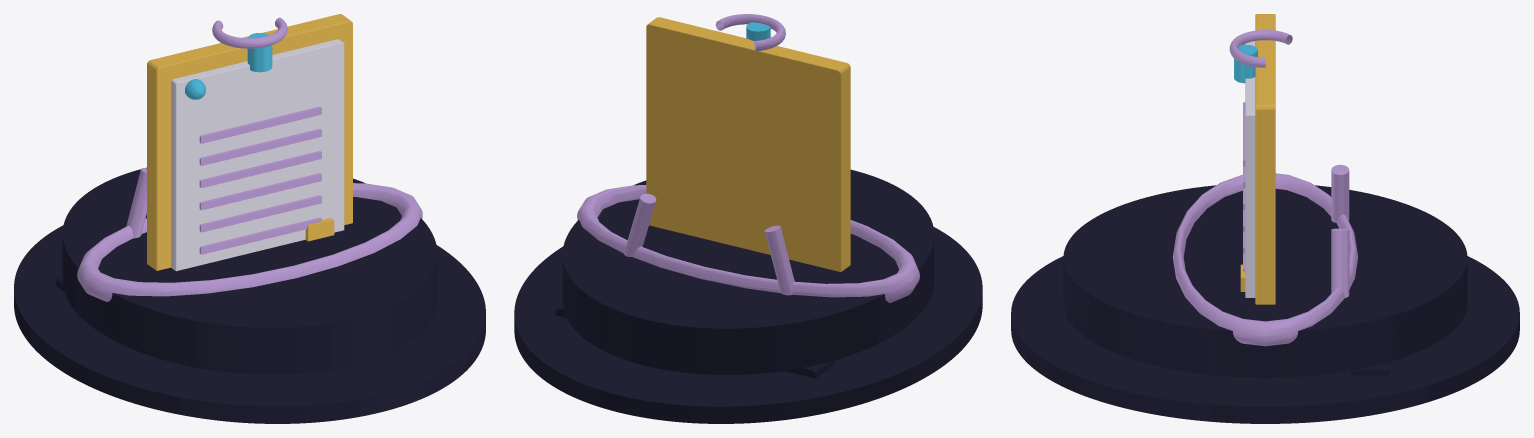
The model's file is 0866_生活中的数学图鉴_电视之星足球.glb.
3 renders of one model, left to right at view 1: azimuth 30°, elevation 25°; view 2: azimuth 150°, elevation 25°; view 3: azimuth 270°, elevation 25°, orthographic. The views are drawn at different scales.
Parts seen in each view (by area): view 1: card_0866; view 2: card_0866; view 3: card_0866.
Part boxes in pixels (bbox=[...]): card_0866: bbox=[14, 14, 485, 423]; card_0866: bbox=[514, 14, 982, 423]; card_0866: bbox=[1011, 14, 1519, 423].
Bounding box in the file's own units: 1.41 × 1 × 1.61.
